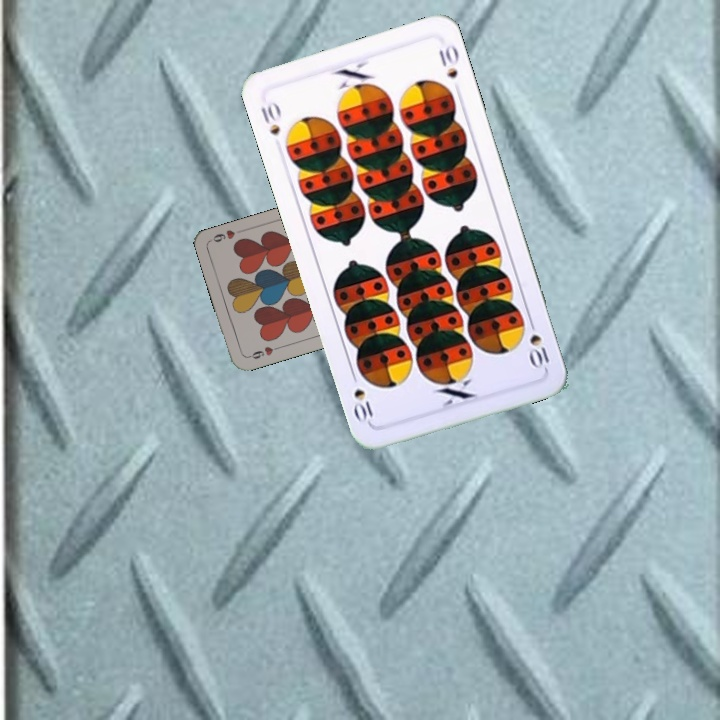H9: (244, 342, 283, 362)
S10: (525, 314, 552, 372), (257, 97, 283, 138)
